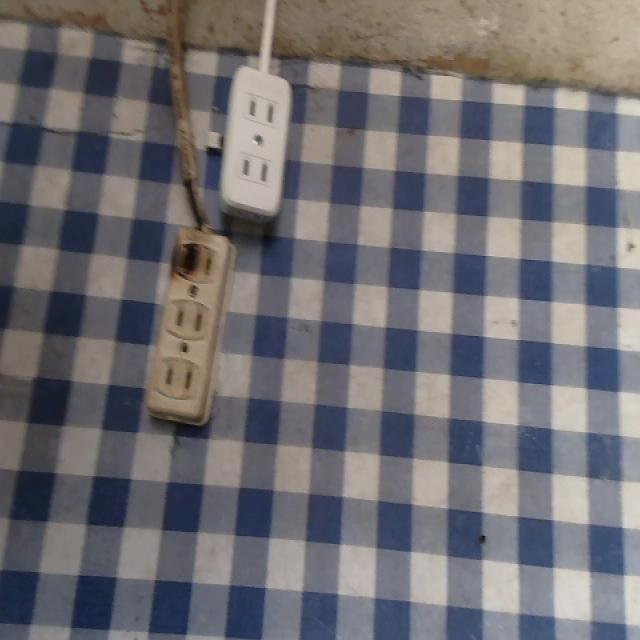-: (166, 231, 202, 284)
